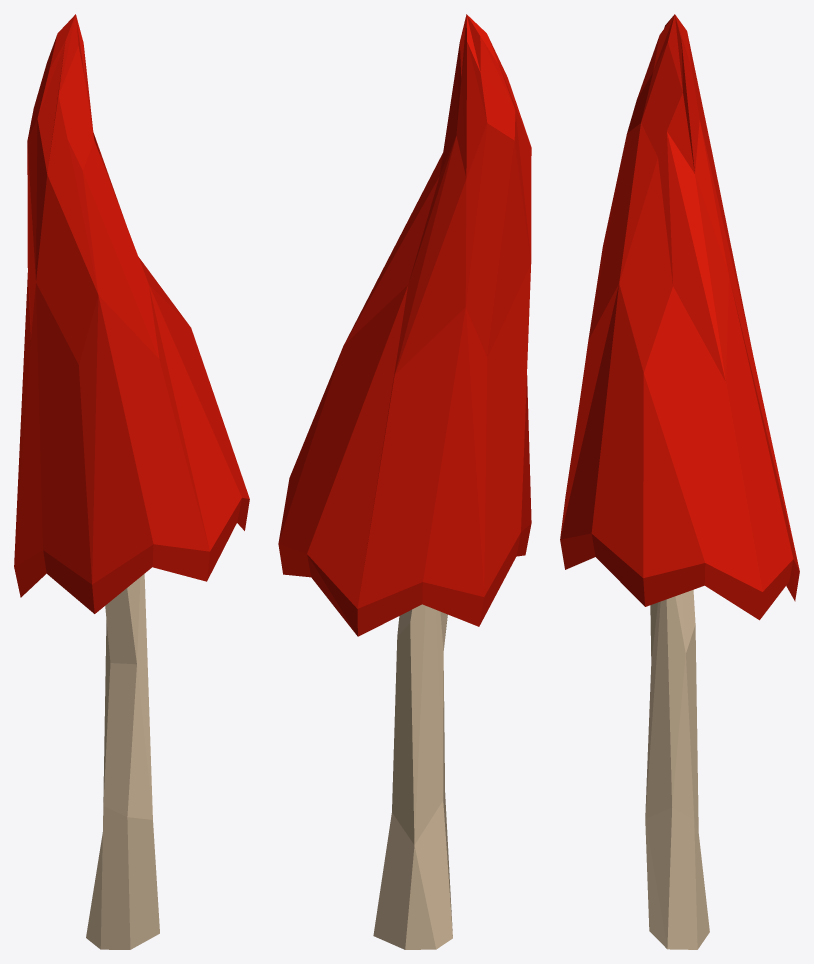
File: Mushroom 2_2.fbx
3 views of the same model, side by side, from view 1: azimuth 30°, elevation 25°; view 2: azimuth 150°, elevation 25°; view 3: azimuth 270°, elevation 25° (orthographic). The views are drawn at different scales.
Parts seen in each view (by area): view 1: Mushroom 2_2; view 2: Mushroom 2_2; view 3: Mushroom 2_2.
Part boxes in pixels (x1,y1,x2,y2): Mushroom 2_2: (14,14,249,949); Mushroom 2_2: (278,14,531,949); Mushroom 2_2: (560,14,799,949).
Bounding box in the file's own units: 0.1883 × 0.7864 × 0.1904.
